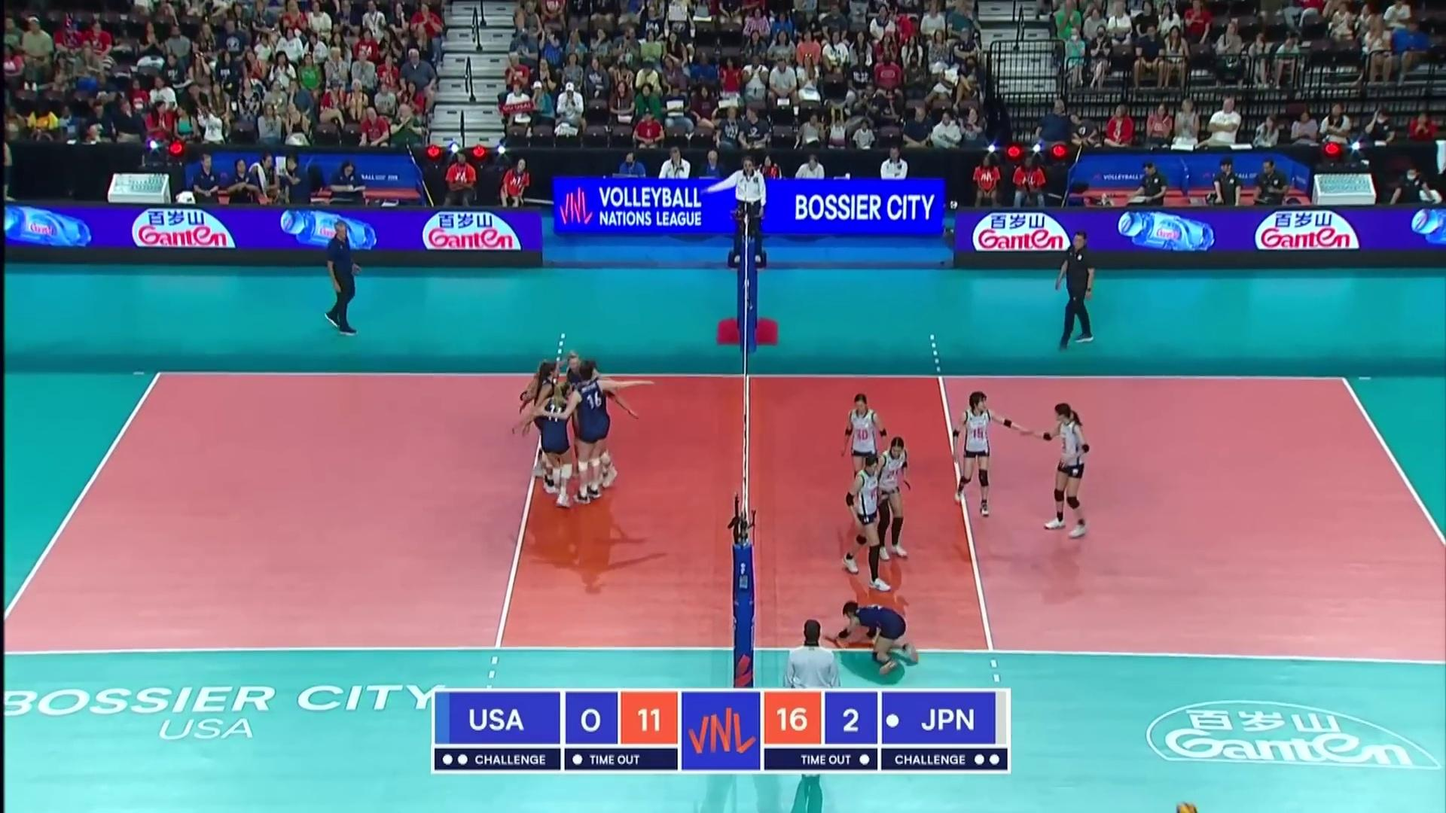player: (954, 390, 1022, 524), (1037, 405, 1097, 536), (829, 600, 923, 673), (839, 392, 890, 522), (842, 457, 887, 590), (872, 431, 915, 563), (574, 365, 603, 501), (582, 361, 613, 487), (547, 386, 577, 504), (537, 363, 561, 494), (565, 352, 590, 477), (534, 363, 559, 479)
refree: (786, 618, 843, 779), (726, 155, 766, 265)
